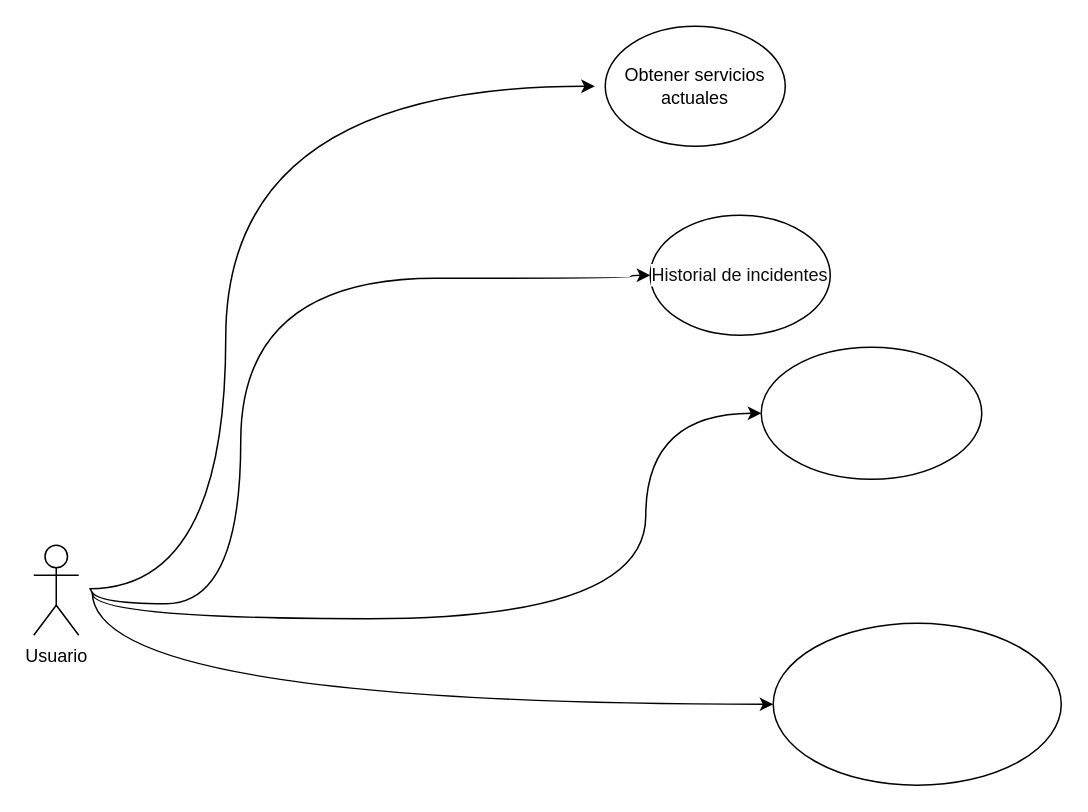
The diagram is 1088 pixels wide and 812 high, and some of its shapes have lost their labels. Each missing label, with the box of its shape:
Registro de consulta incidentes: (772, 622, 1061, 785)
Verificar proximo subterraneo: (760, 346, 982, 479)
